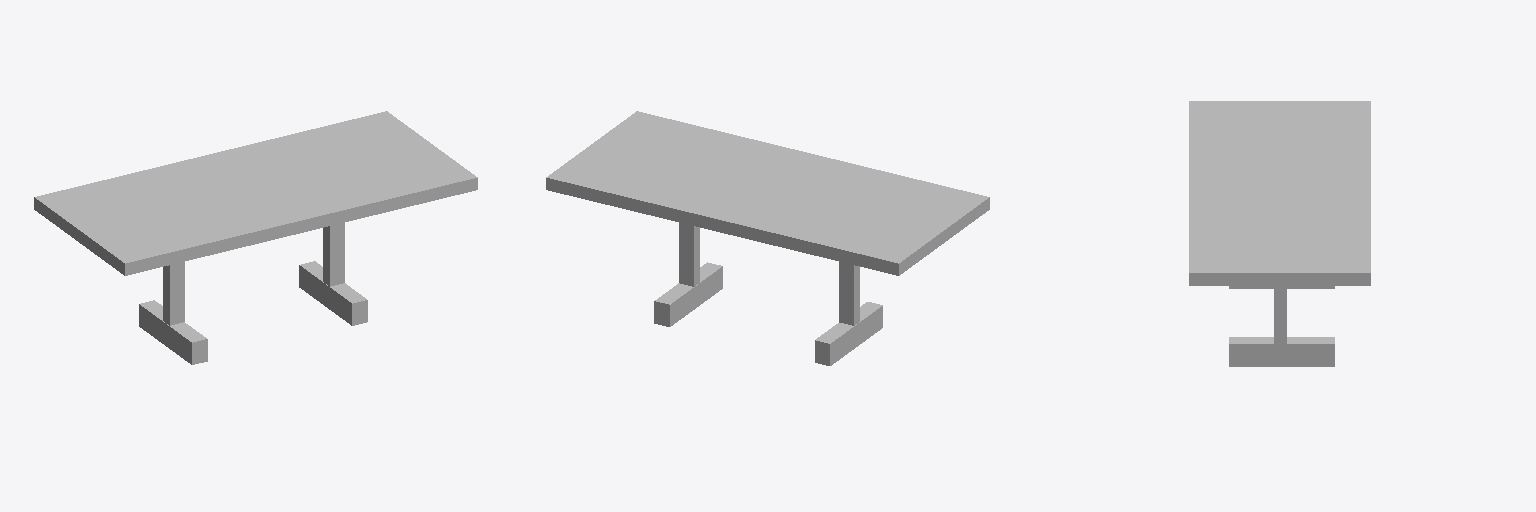
File: mesa.obj
3 views of the same model, side by side, from view 1: azimuth 30°, elevation 25°; view 2: azimuth 150°, elevation 25°; view 3: azimuth 270°, elevation 25° (orthographic).
Parts seen in each view (by area): view 1: Cube.004_Cube.019, Cube.002_Cube.018, Cube_Cube.013, Cube.003_Cube.016, Cube.001_Cube.017; view 2: Cube.004_Cube.019, Cube_Cube.013, Cube.002_Cube.018, Cube.003_Cube.016, Cube.001_Cube.017; view 3: Cube.004_Cube.019, Cube_Cube.013, Cube.003_Cube.016.
Boxes of the visible parts, x1=… form: Cube.004_Cube.019: x1=34, y1=111, x2=477, y2=275; Cube.002_Cube.018: x1=139, y1=300, x2=207, y2=364; Cube_Cube.013: x1=299, y1=261, x2=367, y2=325; Cube.003_Cube.016: x1=323, y1=223, x2=344, y2=286; Cube.001_Cube.017: x1=163, y1=262, x2=184, y2=325; Cube.004_Cube.019: x1=546, y1=111, x2=989, y2=275; Cube_Cube.013: x1=654, y1=262, x2=722, y2=326; Cube.002_Cube.018: x1=815, y1=302, x2=882, y2=365; Cube.003_Cube.016: x1=679, y1=223, x2=699, y2=286; Cube.001_Cube.017: x1=839, y1=262, x2=859, y2=325; Cube.004_Cube.019: x1=1189, y1=101, x2=1370, y2=285; Cube_Cube.013: x1=1229, y1=337, x2=1334, y2=366; Cube.003_Cube.016: x1=1274, y1=286, x2=1286, y2=343.
Bounding box in the file's own units: 1.64 × 0.6117 × 0.7333.